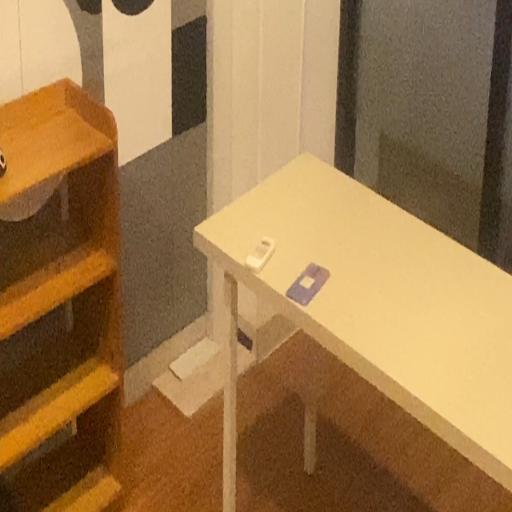hp: (286, 246, 332, 318)
lemari: (0, 59, 143, 512)
remote AC: (242, 222, 282, 285)
